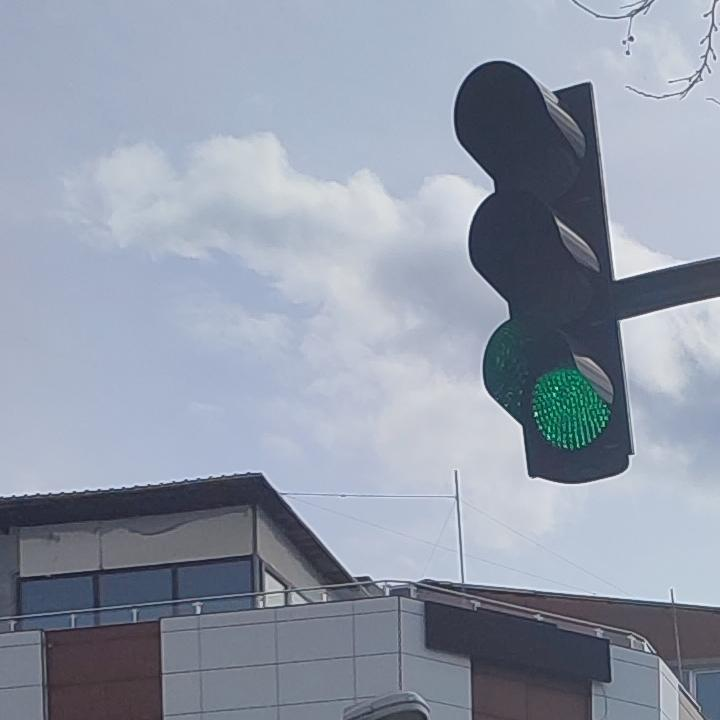green: (406, 57, 671, 483)
